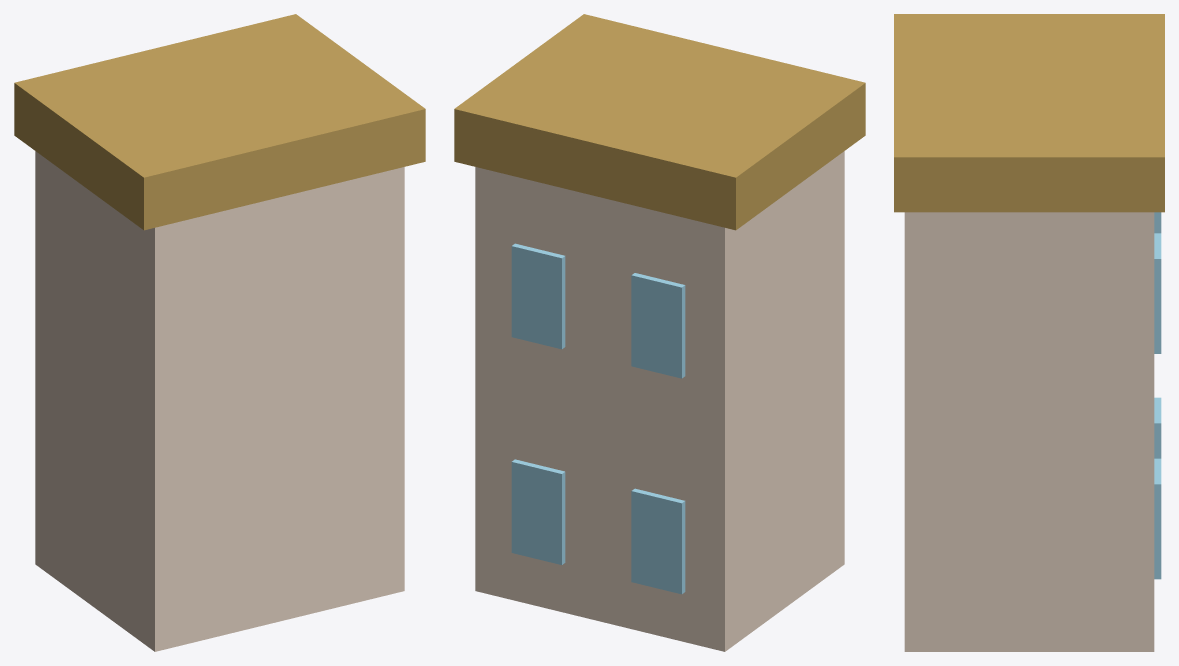
Rendered from stage_1_lowrise.glb.
The picture shows the model from 3 angles, left to right: view 1: azimuth 30°, elevation 25°; view 2: azimuth 150°, elevation 25°; view 3: azimuth 270°, elevation 25°; orthographic projection. The views are drawn at different scales.
Visible parts, largest first — view 1: BUILDING_BODY, ROOFTOP; view 2: BUILDING_BODY, ROOFTOP, WINDOW_F1_-1, WINDOW_F0_-1, WINDOW_F0_1, WINDOW_F1_1; view 3: BUILDING_BODY, ROOFTOP, WINDOW_F0_1, WINDOW_F1_1, WINDOW_F0_-1.
Boxes of the visible parts, x1,y1,x2,y2 form: BUILDING_BODY: (35, 151, 404, 651); ROOFTOP: (14, 14, 425, 230); BUILDING_BODY: (475, 151, 844, 651); ROOFTOP: (454, 14, 865, 230); WINDOW_F1_-1: (631, 273, 685, 378); WINDOW_F0_-1: (631, 488, 685, 594); WINDOW_F0_1: (511, 459, 565, 564); WINDOW_F1_1: (511, 243, 565, 349); BUILDING_BODY: (904, 212, 1154, 651); ROOFTOP: (894, 14, 1164, 212); WINDOW_F0_1: (1154, 458, 1161, 579); WINDOW_F1_1: (1154, 233, 1161, 353); WINDOW_F0_-1: (1154, 397, 1161, 458).
Bounding box in the file's own units: 0.615 × 1.01 × 0.4905.
